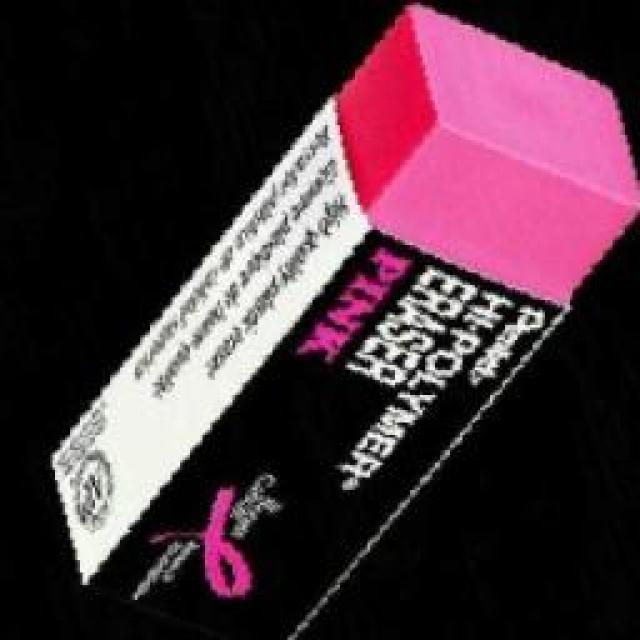Silgi: (47, 2, 640, 639)
